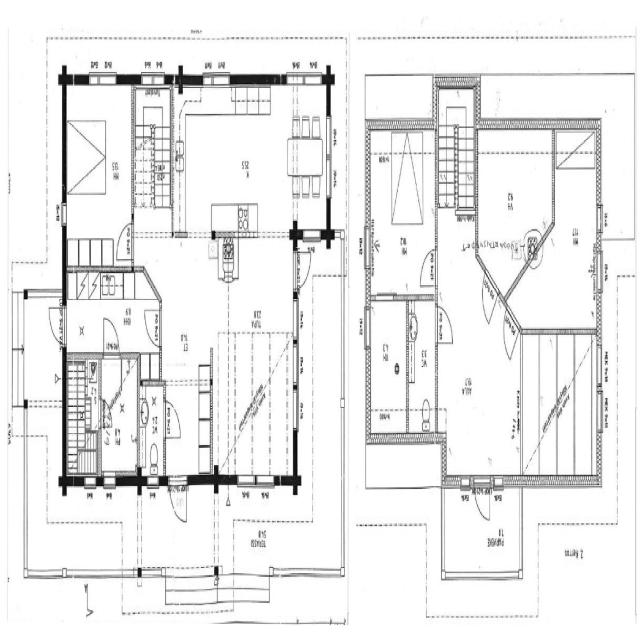door: (168, 473, 189, 524), (115, 216, 135, 266), (100, 313, 122, 357), (163, 396, 183, 443), (142, 301, 162, 347), (418, 244, 437, 290), (293, 245, 312, 291), (436, 302, 455, 346), (47, 301, 66, 345), (473, 476, 491, 519), (502, 319, 520, 362), (480, 284, 497, 326)
window: (325, 108, 335, 203), (292, 292, 301, 390), (284, 68, 325, 88), (199, 68, 232, 90), (88, 67, 119, 90), (140, 68, 166, 88), (363, 302, 373, 352), (594, 247, 604, 296), (364, 215, 373, 269), (594, 190, 603, 243), (370, 289, 398, 306), (254, 470, 279, 489), (292, 379, 300, 434), (60, 195, 70, 232), (492, 472, 508, 493), (458, 474, 472, 497), (102, 470, 118, 490), (82, 471, 98, 489), (146, 473, 160, 490)
zone: (177, 83, 299, 234), (64, 79, 134, 268), (475, 129, 554, 286), (438, 328, 520, 476), (367, 126, 437, 294), (526, 331, 600, 480), (552, 149, 597, 329), (65, 268, 153, 353), (368, 296, 408, 437), (134, 80, 172, 226), (99, 352, 139, 476), (65, 347, 100, 480), (407, 291, 438, 435), (139, 378, 165, 480), (554, 126, 597, 169)
